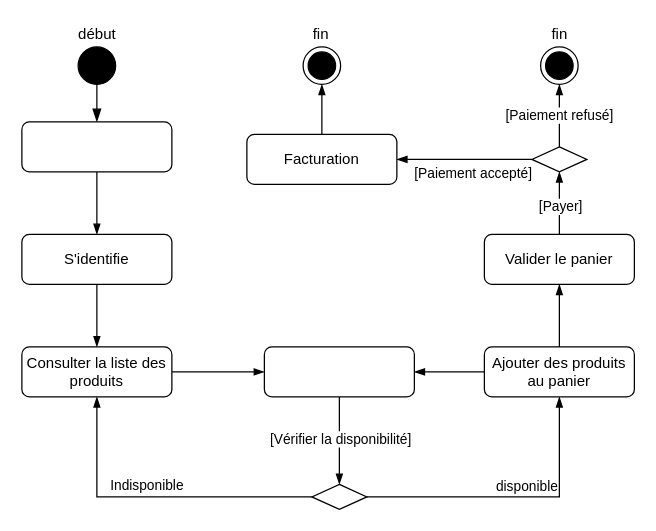
This 656x531 diagram has some shape labels left out. The centre of each missing label's shape, as x and y in pixels:
Choix d'un produit: point (338, 371)
Consulter le site web: point (96, 146)
